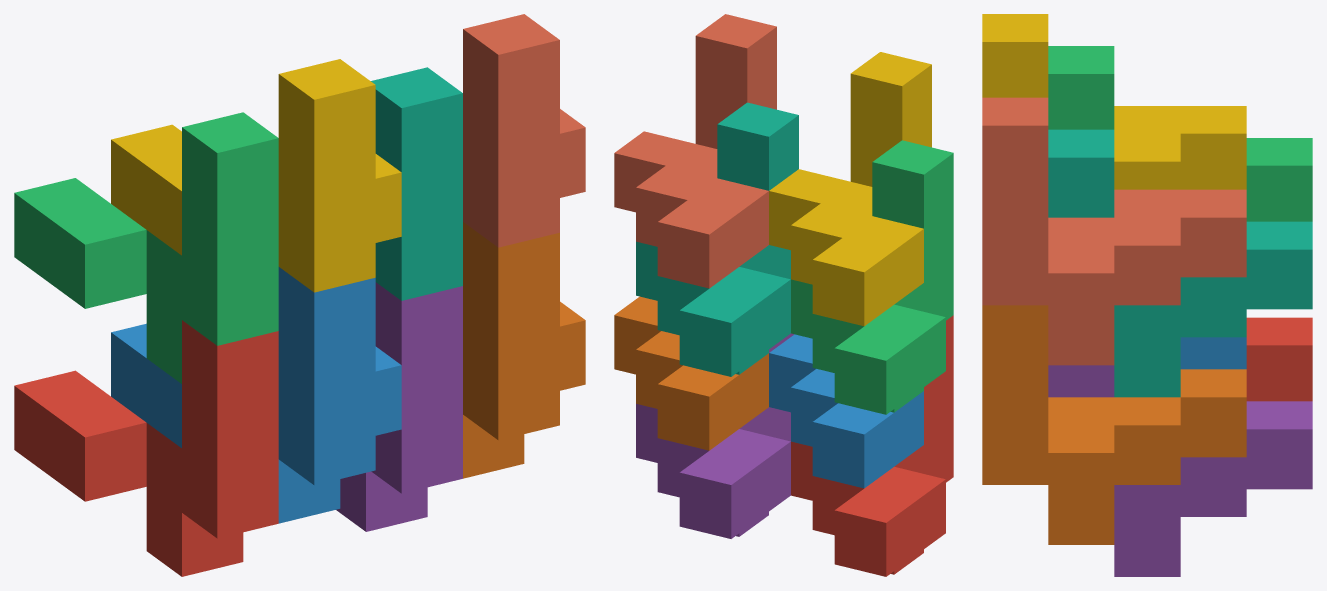
The model's file is tiling.obj.
3 views of the same model, side by side, from view 1: azimuth 30°, elevation 25°; view 2: azimuth 150°, elevation 25°; view 3: azimuth 270°, elevation 25° (orthographic). The views are drawn at different scales.
Visible parts, largest first — view 1: copy_1_domain_1, copy_1_domain_3, copy_1_domain_4, copy_1_domain_2, copy_1_domain_6, copy_1_domain_8, copy_1_domain_5, copy_1_domain_7; view 2: copy_1_domain_4, copy_1_domain_8, copy_1_domain_3, copy_1_domain_7, copy_1_domain_1, copy_1_domain_5, copy_1_domain_2, copy_1_domain_6; view 3: copy_1_domain_8, copy_1_domain_6, copy_1_domain_7, copy_1_domain_5, copy_1_domain_4, copy_1_domain_3, copy_1_domain_1, copy_1_domain_2.
Part boxes in pixels (x1,y1,x2,y2): copy_1_domain_1: (14,320,278,576); copy_1_domain_3: (14,112,278,383); copy_1_domain_4: (111,59,401,292); copy_1_domain_2: (111,267,401,523); copy_1_domain_6: (463,222,585,478); copy_1_domain_8: (463,14,585,247); copy_1_domain_5: (336,282,462,531); copy_1_domain_7: (371,67,462,300); copy_1_domain_4: (769,52,931,326); copy_1_domain_8: (614,14,776,288); copy_1_domain_3: (791,140,953,414); copy_1_domain_7: (636,102,798,376); copy_1_domain_1: (791,315,953,576); copy_1_domain_5: (636,333,793,538); copy_1_domain_2: (769,334,923,488); copy_1_domain_6: (614,296,768,450); copy_1_domain_8: (982,97,1246,365); copy_1_domain_6: (982,305,1246,544); copy_1_domain_7: (1048,129,1312,397); copy_1_domain_5: (1048,365,1312,576); copy_1_domain_4: (982,14,1246,189); copy_1_domain_3: (1048,46,1312,221); copy_1_domain_1: (1246,317,1312,401); copy_1_domain_2: (1180,337,1246,369).
Size of the model in its own units: 7 by 8 by 5.
